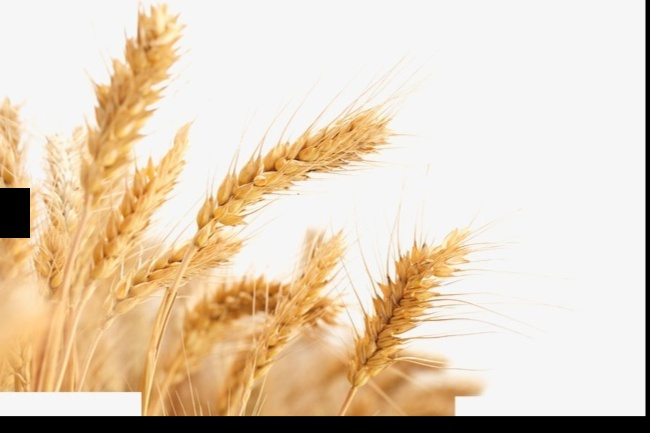wheat: (185, 96, 398, 257), (347, 226, 469, 397)
